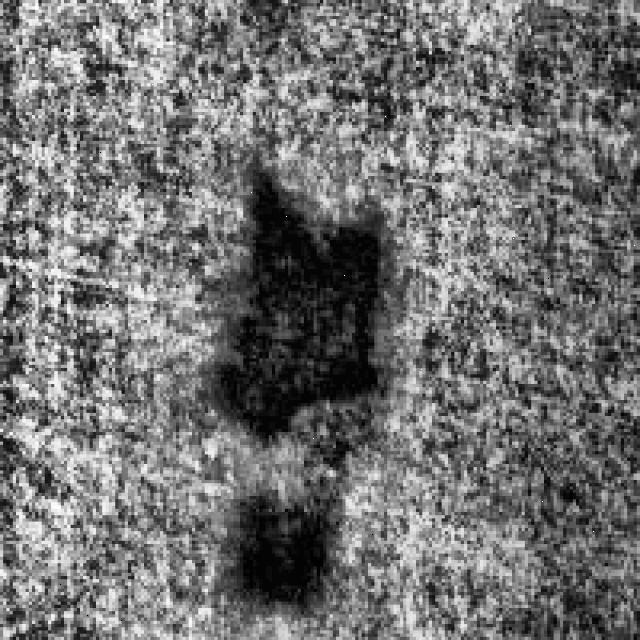Scratches: (218, 160, 404, 461), (227, 464, 355, 614)
